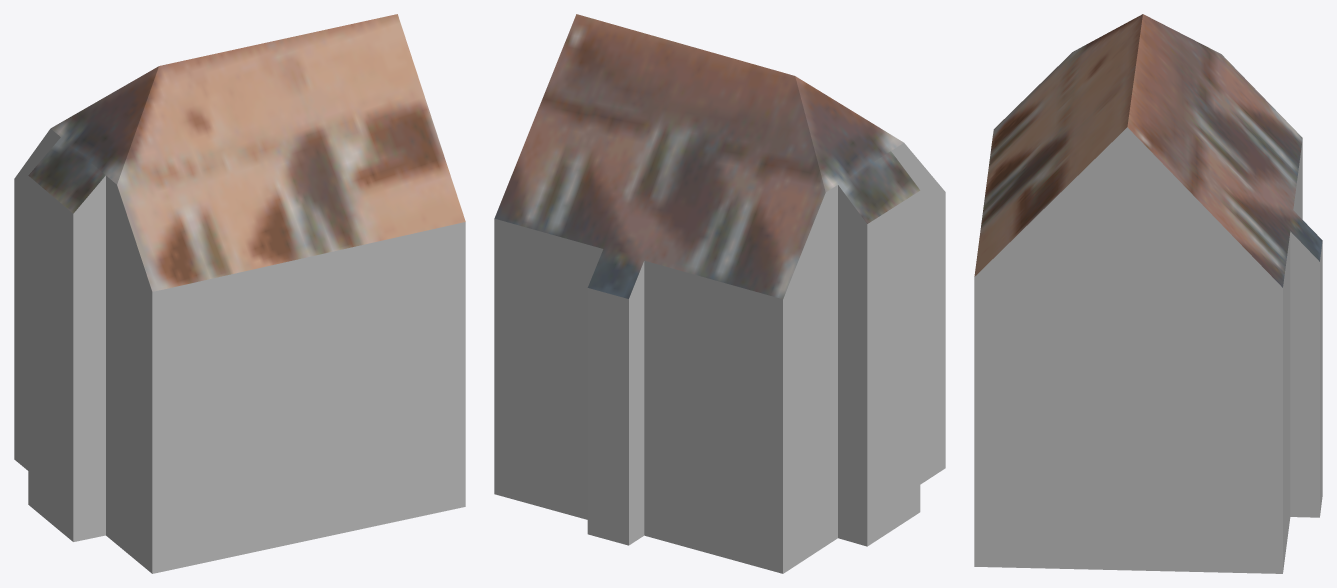
File: DEBW_0010007TvkF.gltf
3 renders of one model, left to right at view 1: azimuth 30°, elevation 25°; view 2: azimuth 150°, elevation 25°; view 3: azimuth 270°, elevation 25°, orthographic. The views are drawn at different scales.
Visible parts, largest first — view 1: Z_UP; view 2: Z_UP; view 3: Z_UP.
Part boxes in pixels (bbox=[...]): Z_UP: bbox=[14, 14, 465, 573]; Z_UP: bbox=[494, 14, 945, 573]; Z_UP: bbox=[974, 14, 1322, 573].
Size of the model in its own units: 17.98 by 21.71 by 15.46.
2 materials, 1 textured.
